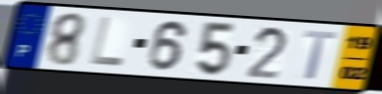2: (243, 25, 292, 80)
5: (193, 20, 237, 78)
6: (146, 19, 191, 72)
8: (43, 11, 89, 67)
L: (87, 15, 127, 68)
T: (302, 28, 340, 81)
